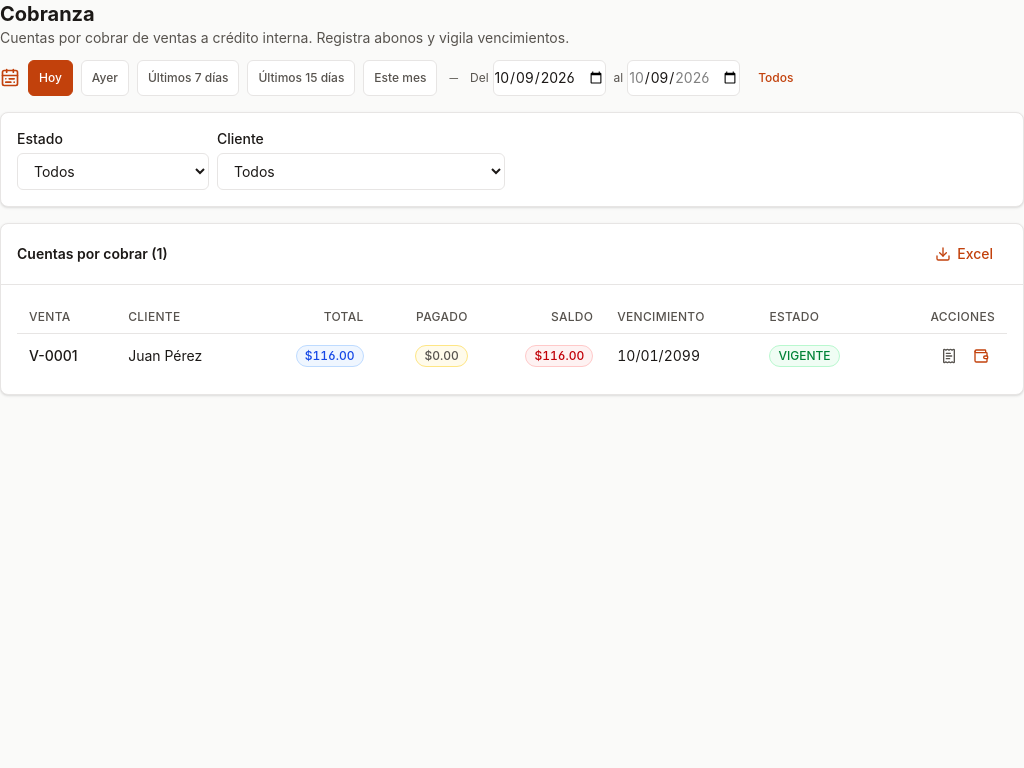
CobranzaPage › abre el estado de cuenta al hacer clic en el historial
Click the button named "Estado de cuenta" at (949,356), box [935, 342, 963, 370]
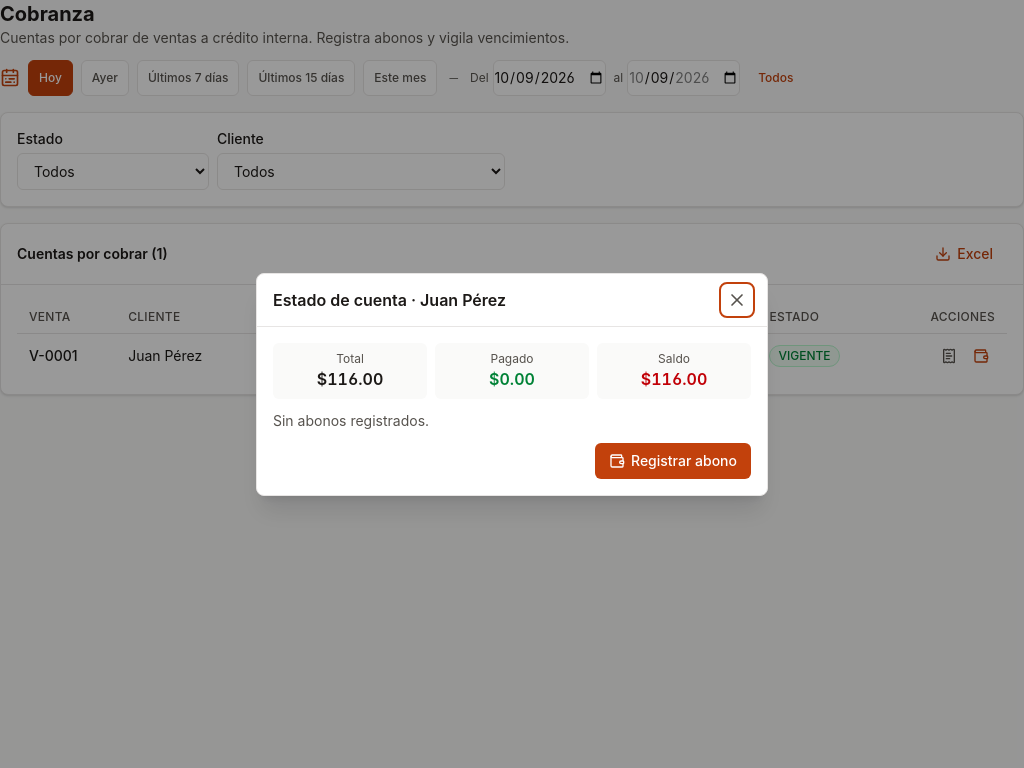
Result: the dialog "Estado de cuenta · Juan Pérez" is shown at [256, 272, 768, 496]
Result: the text "Sin abonos registrados." is shown at [273, 412, 429, 428]
Result: the button "Registrar abono" is shown at [595, 442, 751, 478]
